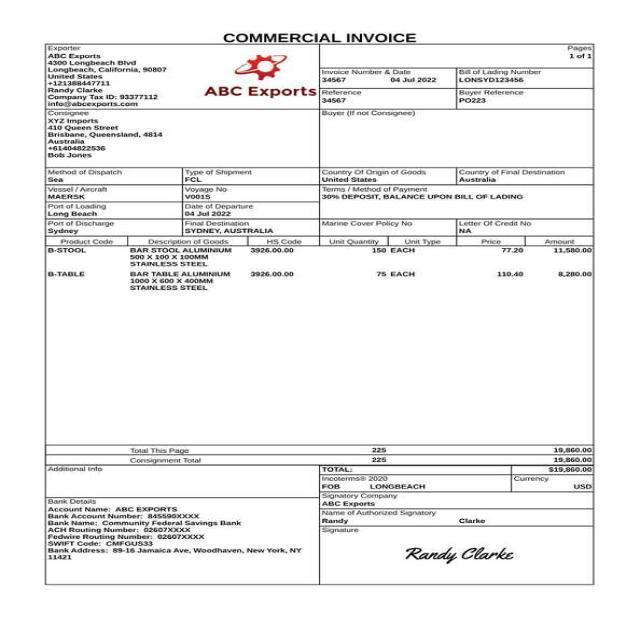paragraph: (43, 465, 308, 570), (319, 466, 593, 567), (44, 167, 282, 235), (45, 44, 171, 108), (44, 110, 167, 161), (203, 50, 319, 99), (322, 67, 456, 109), (319, 166, 572, 185), (320, 186, 526, 209), (320, 218, 535, 235), (459, 66, 544, 108), (221, 30, 422, 44), (320, 109, 422, 118), (565, 40, 596, 62)
table: (43, 236, 595, 292), (125, 443, 596, 465)
